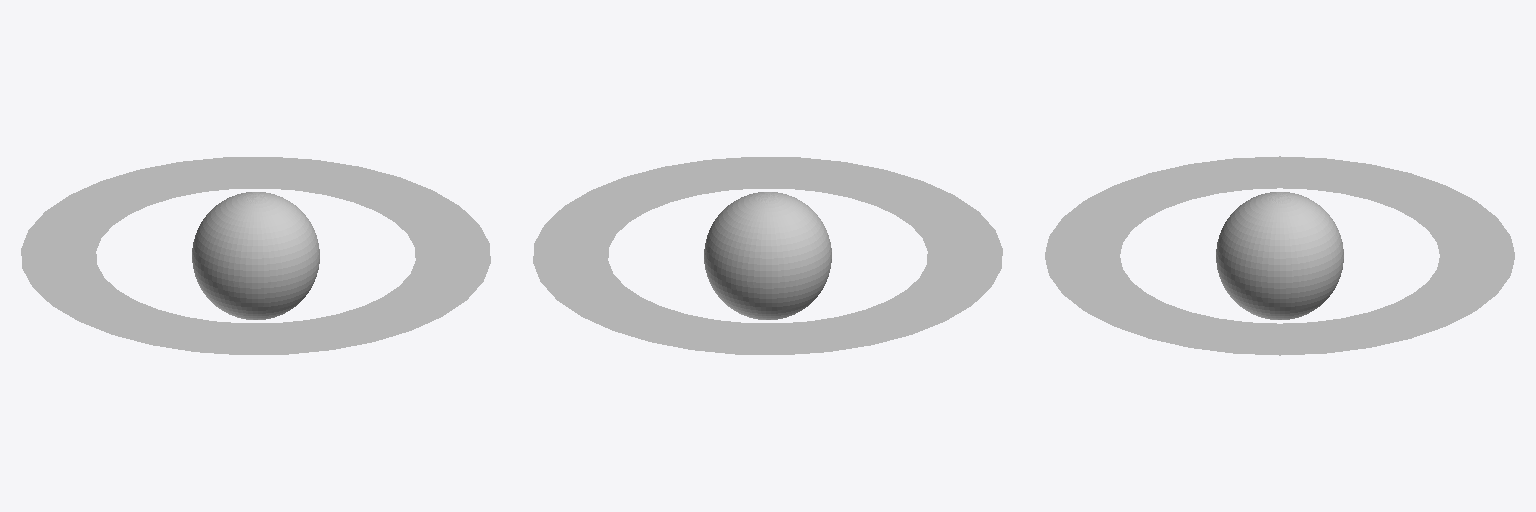
The model's file is saturn.obj.
3 views of the same model, side by side, from view 1: azimuth 30°, elevation 25°; view 2: azimuth 150°, elevation 25°; view 3: azimuth 270°, elevation 25° (orthographic).
Parts seen in each view (by area): view 1: Circle_Circle.002, Circle.001, Sphere; view 2: Circle_Circle.002, Circle.001, Sphere; view 3: Circle_Circle.002, Circle.001, Sphere.
Part boxes in pixels (x1,y1,x2,y2): Circle_Circle.002: (21,157,490,354); Circle.001: (22,157,490,354); Sphere: (192,192,319,319); Circle_Circle.002: (533,157,1001,354); Circle.001: (533,157,1002,354); Sphere: (704,192,831,319); Circle_Circle.002: (1046,156,1514,355); Circle.001: (1045,157,1513,355); Sphere: (1216,192,1343,319).
Bounding box in the file's own units: 7.27 × 2 × 7.27.